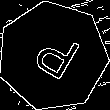P_SW: (24, 25, 82, 87)
